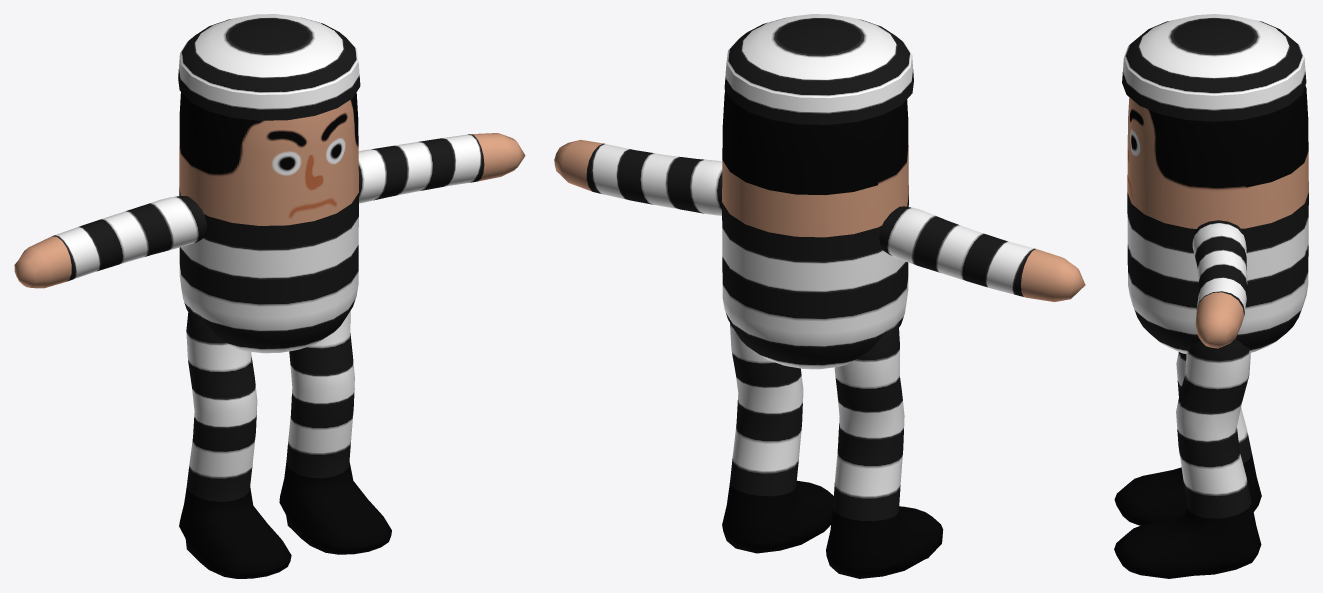
The model's file is SK_Prisoner_01.fbx.
The picture shows the model from 3 angles, left to right: view 1: azimuth 30°, elevation 25°; view 2: azimuth 150°, elevation 25°; view 3: azimuth 270°, elevation 25°; orthographic projection. The views are drawn at different scales.
Visible parts, largest first — view 1: SK_Prisoner_01; view 2: SK_Prisoner_01; view 3: SK_Prisoner_01.
Boxes of the visible parts, bbox=[...] form: SK_Prisoner_01: bbox=[14, 14, 525, 578]; SK_Prisoner_01: bbox=[554, 14, 1085, 578]; SK_Prisoner_01: bbox=[1114, 14, 1308, 578].
Size of the model in its own units: 308 by 293 by 102.
